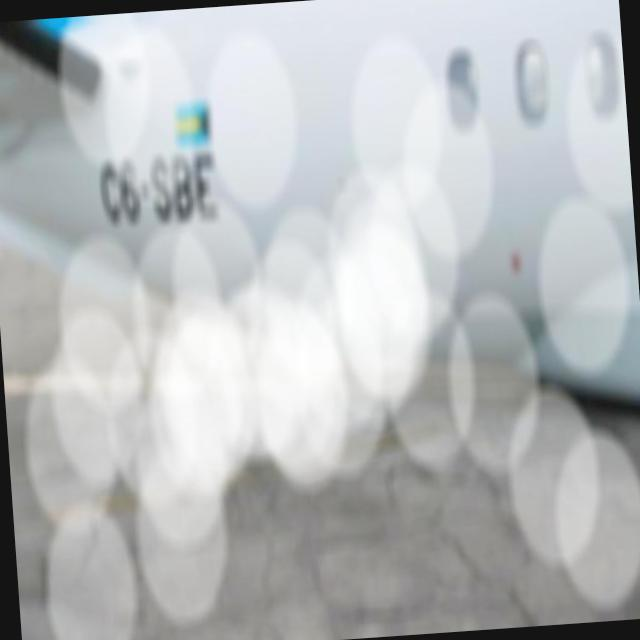dent: (0, 97, 80, 158)
